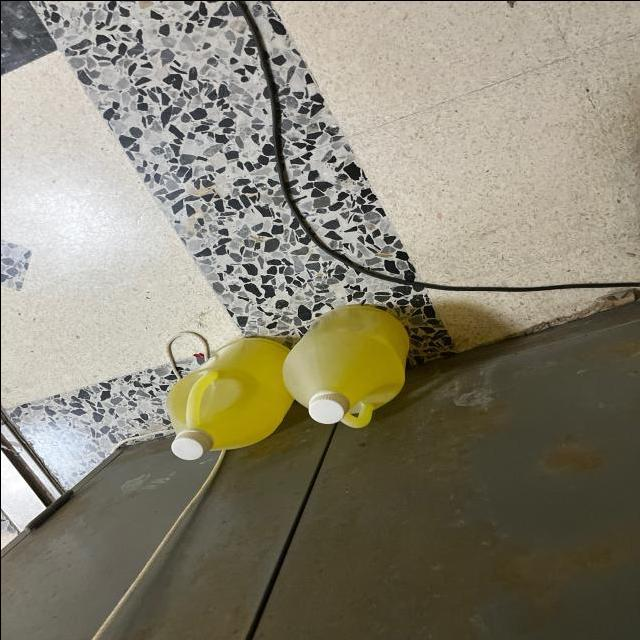HDPE Plastic: (162, 336, 296, 461), (285, 301, 410, 434)
